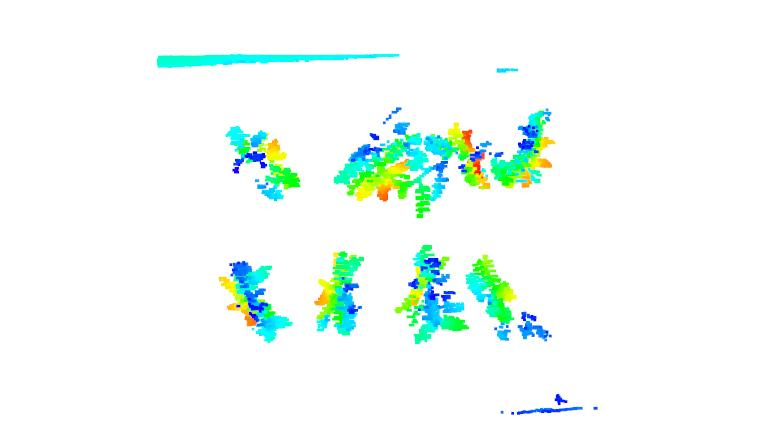chickpea: (397, 121, 493, 218), (394, 243, 469, 345), (218, 259, 293, 344), (223, 124, 303, 203), (491, 107, 558, 191), (332, 134, 409, 205), (309, 251, 366, 336), (463, 255, 520, 326)
